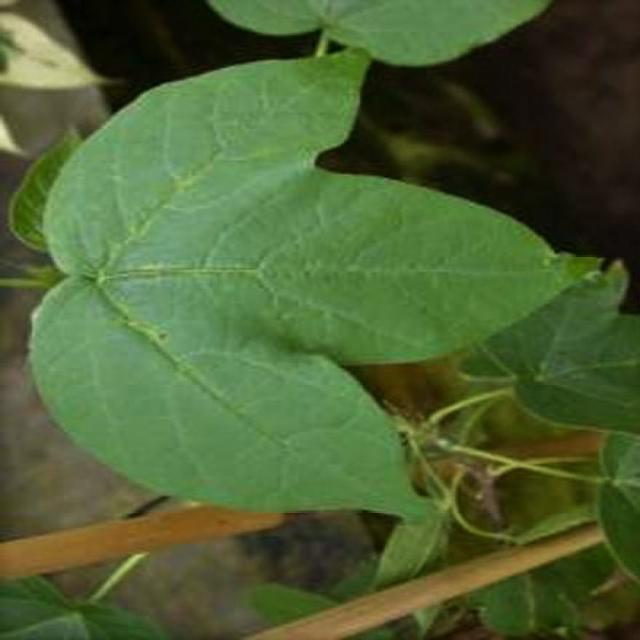Healthy Leaf: (3, 0, 637, 640)
